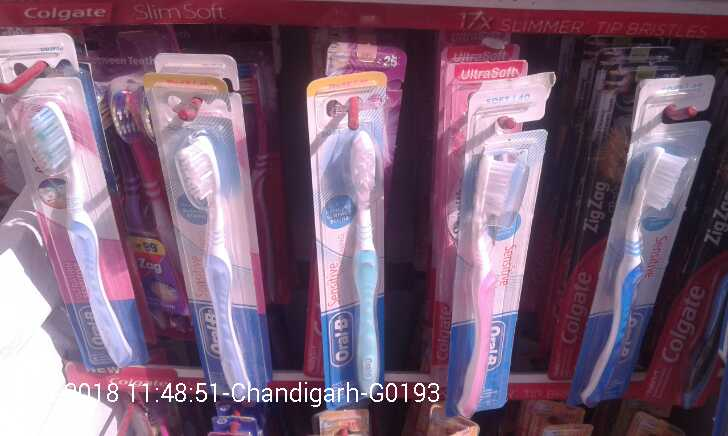oralb: (17, 90, 127, 382), (161, 120, 255, 403), (590, 135, 685, 409), (319, 106, 386, 386), (465, 129, 520, 414)
